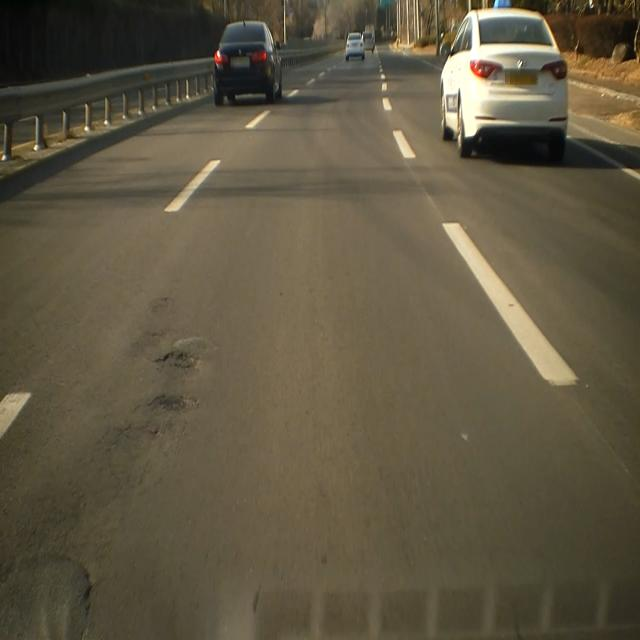Pothole: (152, 338, 208, 378), (150, 386, 205, 418)
